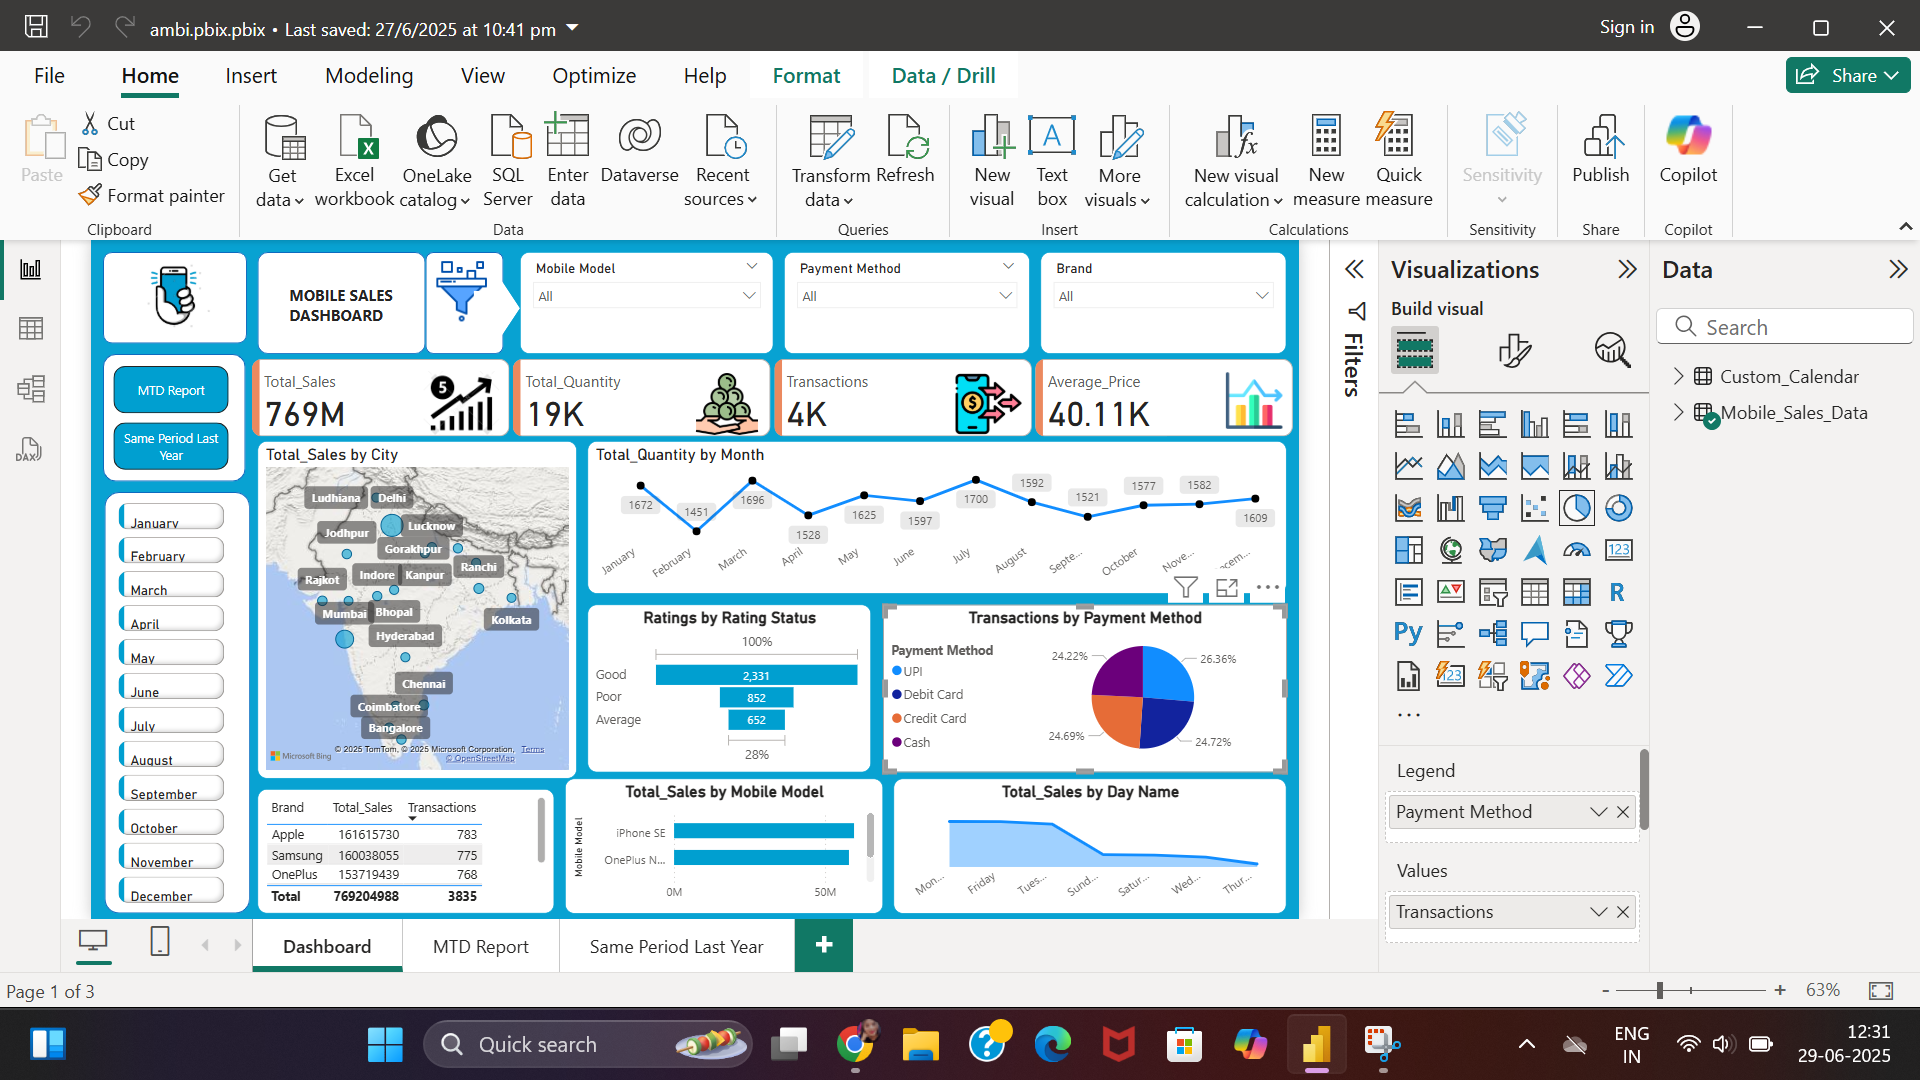

This screenshot's page, from the dashboard's own definition file:
{"tool":"powerbi","page":{"name":"Dashboard","canvas":[1280,720],"ordinal":0},"visuals":[{"type":"shape","box":[12.7,12.7,152.7,97],"z":0},{"type":"image","box":[11.1,12.7,152.7,97],"z":1000},{"type":"shape","box":[12.7,120.9,151.1,135.2],"z":2000},{"type":"shape","box":[14.3,267.2,154.3,447],"z":3000},{"type":"advancedSlicerVisual","fields":{"Values":["Custom_Calendar.Date.Variation.Date Hierarchy.Month"]},"box":[23.9,273.6,122.5,440.6],"z":4000},{"type":"cardVisual","fields":{"Data":["Mobile_Sales_Data.Total_Sales","Mobile_Sales_Data.Total_Quantity","Mobile_Sales_Data.Transactions","Mobile_Sales_Data.Average_Price"]},"box":[165.4,120.9,1115,92.3],"z":5000},{"type":"slicer","fields":{"Values":["Mobile_Sales_Data.Mobile Model"]},"box":[454.9,12.7,268.8,108.2],"z":6000},{"type":"slicer","fields":{"Values":["Mobile_Sales_Data.Brand"]},"box":[1006.9,12.7,260.9,108.2],"z":7000},{"type":"slicer","fields":{"Values":["Mobile_Sales_Data.Payment Method"]},"box":[734.9,12.7,260.9,108.2],"z":8000},{"type":"shape","box":[354.7,12.7,82.7,108.2],"z":9000},{"type":"image","box":[354.7,12.7,76.3,82.7],"z":10000},{"type":"shape","box":[405.6,35,49.3,74.8],"z":11000},{"type":"shape","box":[176.6,12.7,178.1,108.2],"z":12000},{"type":"textbox","box":[205.2,23.9,128.8,84.3],"z":13000},{"type":"map","fields":{"Category":["Mobile_Sales_Data.City"],"Size":["Mobile_Sales_Data.Total_Sales"]},"box":[176.6,213.1,338.8,357.9],"z":14000},{"type":"lineChart","fields":{"Category":["Custom_Calendar.Date.Variation.Date Hierarchy.Month"],"Y":["Mobile_Sales_Data.Total_Quantity"]},"box":[526.5,213.1,741.2,162.2],"z":15000},{"type":"funnel","title":"Ratings by Rating Status","fields":{"Y":["CountNonNull(Mobile_Sales_Data.Customer Ratings)"],"Category":["Mobile_Sales_Data.Rating Status"]},"box":[526.5,386.5,300.6,178.1],"z":16000},{"type":"pieChart","fields":{"Category":["Mobile_Sales_Data.Payment Method"],"Y":["Mobile_Sales_Data.Transactions"]},"box":[839.8,386.5,427.9,178.1],"z":17000},{"type":"clusteredBarChart","fields":{"Y":["Mobile_Sales_Data.Total_Sales"],"Category":["Mobile_Sales_Data.Mobile Model"]},"box":[502.6,571,337.2,143.2],"z":18000},{"type":"areaChart","fields":{"Y":["Mobile_Sales_Data.Total_Sales"],"Category":["Custom_Calendar.Day Name"]},"box":[851,571,416.7,143.2],"z":19000},{"type":"tableEx","fields":{"Values":["Mobile_Sales_Data.Brand","Mobile_Sales_Data.Total_Sales","Mobile_Sales_Data.Transactions"]},"box":[176.6,582.2,314.9,132],"z":20000},{"type":"pageNavigator","box":[23.9,133.6,122.5,111.3],"z":21000}]}

Visuals, with their boxes on the page's 1280x720 design canvas (x1, y1, x2, y2). These are canvas units, not pixel positions in the 1920x1080 screenshot, which may show the page scaled, cropped or inside an application window:
shape: left=13, top=13, right=165, bottom=110
image: left=11, top=13, right=164, bottom=110
shape: left=13, top=121, right=164, bottom=256
shape: left=14, top=267, right=169, bottom=714
advancedSlicerVisual - Custom_Calendar.Date.Variation.Date Hierarchy.Month: left=24, top=274, right=146, bottom=714
cardVisual - Mobile_Sales_Data.Total_Sales x Mobile_Sales_Data.Total_Quantity: left=165, top=121, right=1280, bottom=213
slicer - Mobile_Sales_Data.Mobile Model: left=455, top=13, right=724, bottom=121
slicer - Mobile_Sales_Data.Brand: left=1007, top=13, right=1268, bottom=121
slicer - Mobile_Sales_Data.Payment Method: left=735, top=13, right=996, bottom=121
shape: left=355, top=13, right=437, bottom=121
image: left=355, top=13, right=431, bottom=95
shape: left=406, top=35, right=455, bottom=110
shape: left=177, top=13, right=355, bottom=121
textbox: left=205, top=24, right=334, bottom=108
map - Mobile_Sales_Data.City x Mobile_Sales_Data.Total_Sales: left=177, top=213, right=515, bottom=571
lineChart - Custom_Calendar.Date.Variation.Date Hierarchy.Month x Mobile_Sales_Data.Total_Quantity: left=526, top=213, right=1268, bottom=375
"Ratings by Rating Status" funnel: left=526, top=386, right=827, bottom=565
pieChart - Mobile_Sales_Data.Payment Method x Mobile_Sales_Data.Transactions: left=840, top=386, right=1268, bottom=565
clusteredBarChart - Mobile_Sales_Data.Total_Sales x Mobile_Sales_Data.Mobile Model: left=503, top=571, right=840, bottom=714
areaChart - Mobile_Sales_Data.Total_Sales x Custom_Calendar.Day Name: left=851, top=571, right=1268, bottom=714
tableEx - Mobile_Sales_Data.Brand x Mobile_Sales_Data.Total_Sales: left=177, top=582, right=492, bottom=714
pageNavigator: left=24, top=134, right=146, bottom=245
